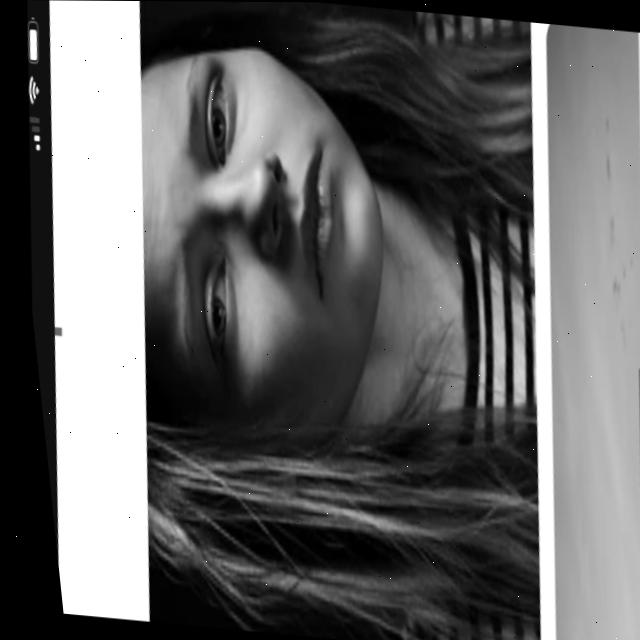sad: (105, 31, 405, 498)
